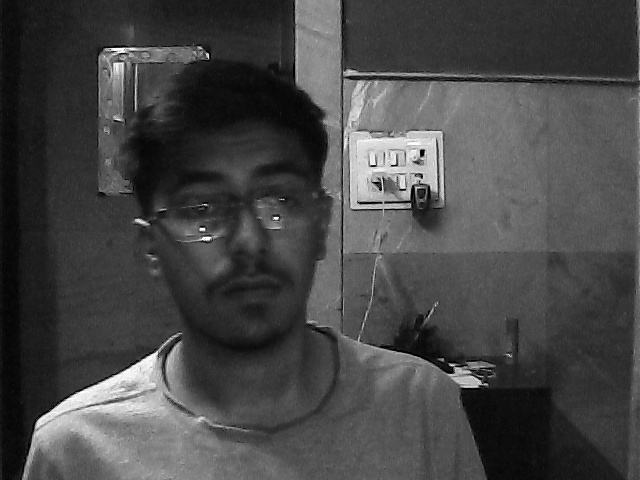nomask: (147, 114, 326, 340)
